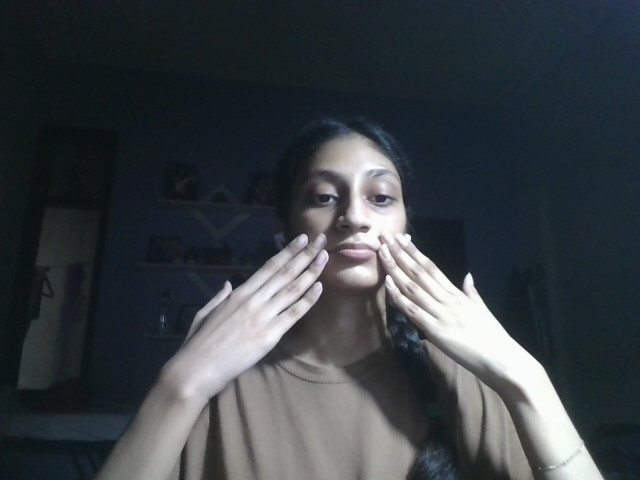thank you: (161, 229, 541, 399)
